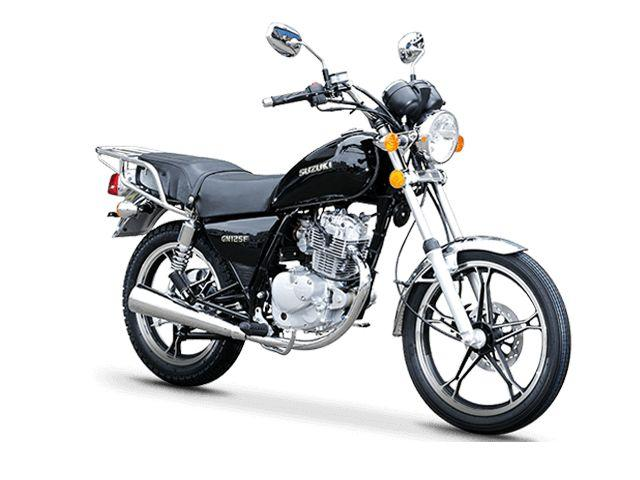motorbike: (94, 20, 571, 435)
